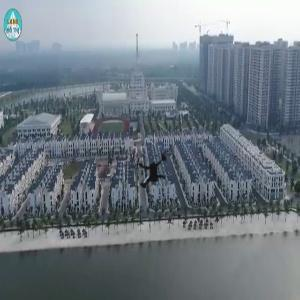drone: (114, 132, 192, 210)
